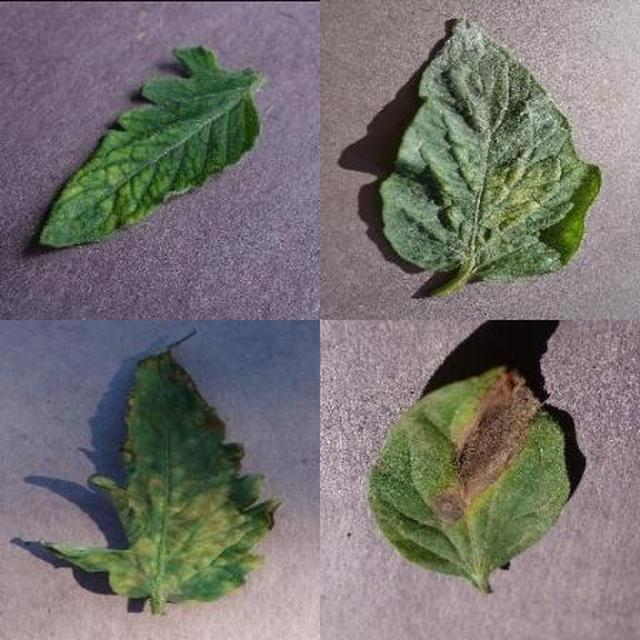Mosaic Virus Leaf: (212, 207, 640, 640)
